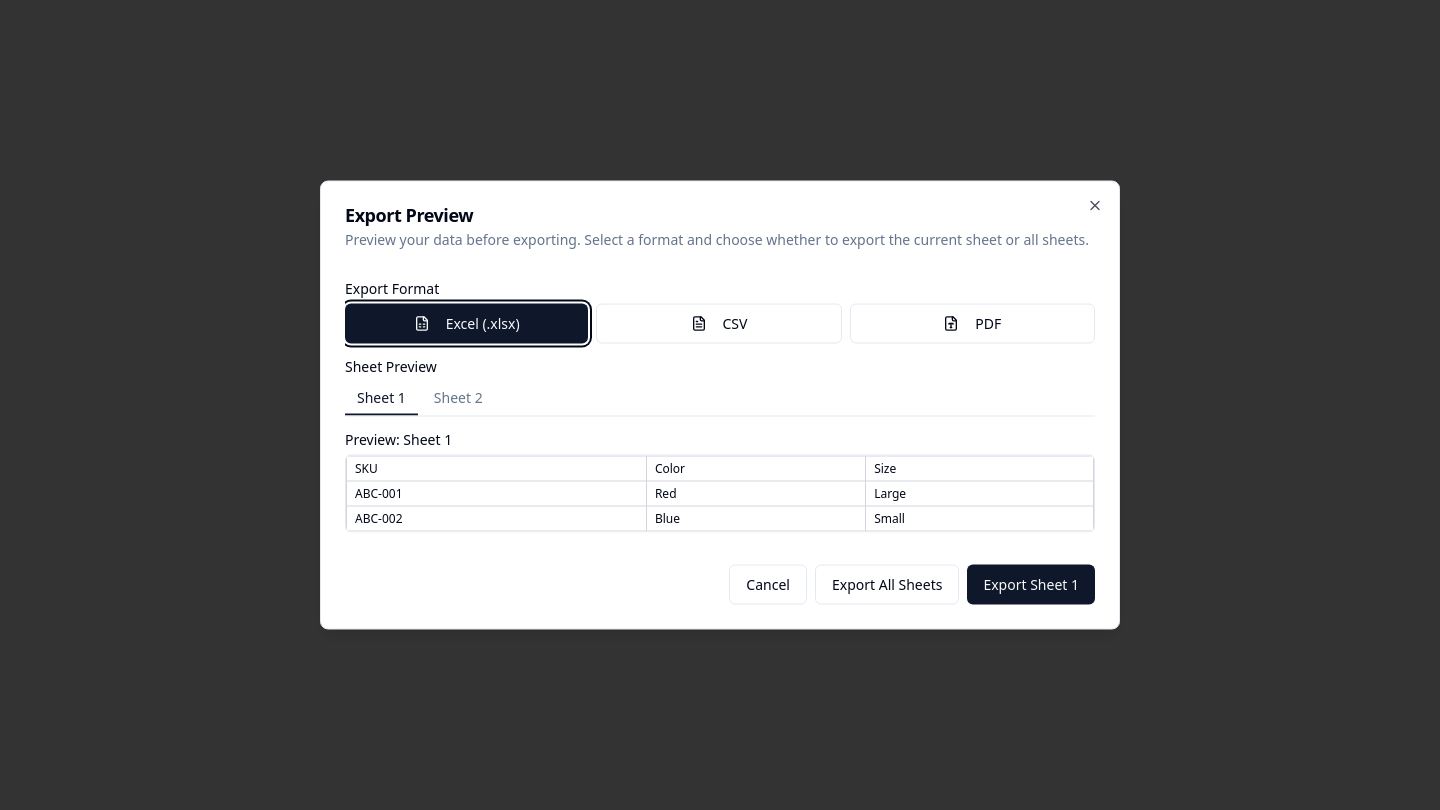
Scenario: ExportPreviewDialog › export actions › hides export all button when CSV format is selected
Check: the button with test id "export-all-button" is shown, box [815,564,960,604]
// Select CSV format
What coordinates should you click on to do the following:
click the button with test id "format-csv"
I would click on:
 (719, 324)
Its box is [596,304,842,344].
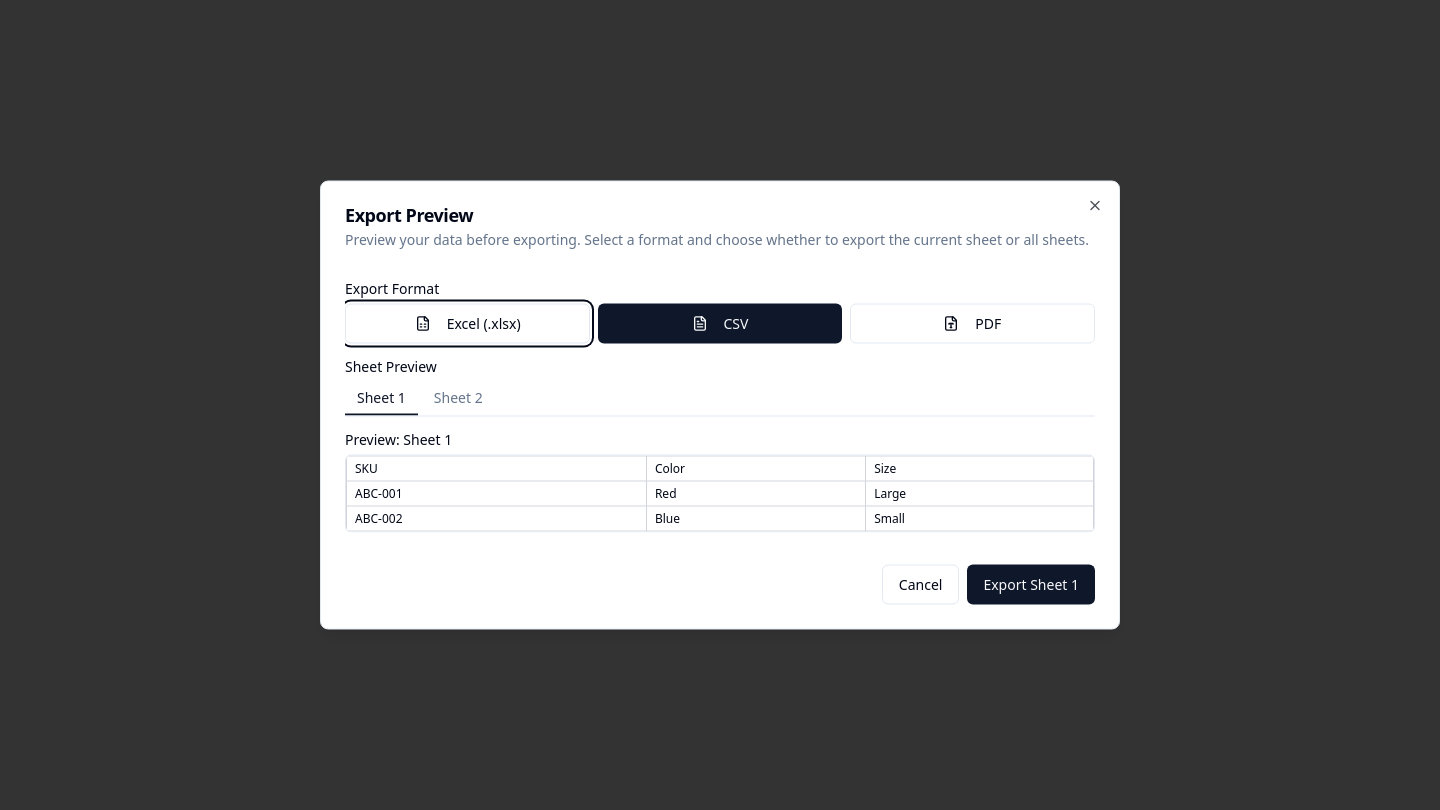
Check: the button with test id "export-all-button" is gone
